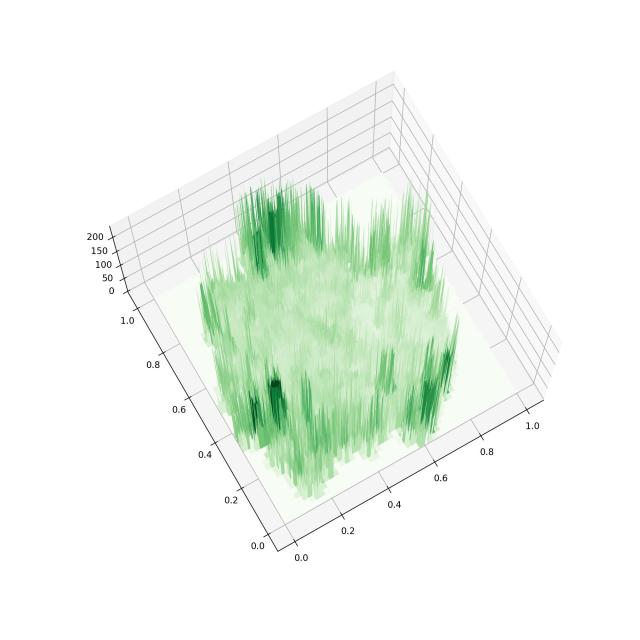fir: (57, 22, 625, 594)
